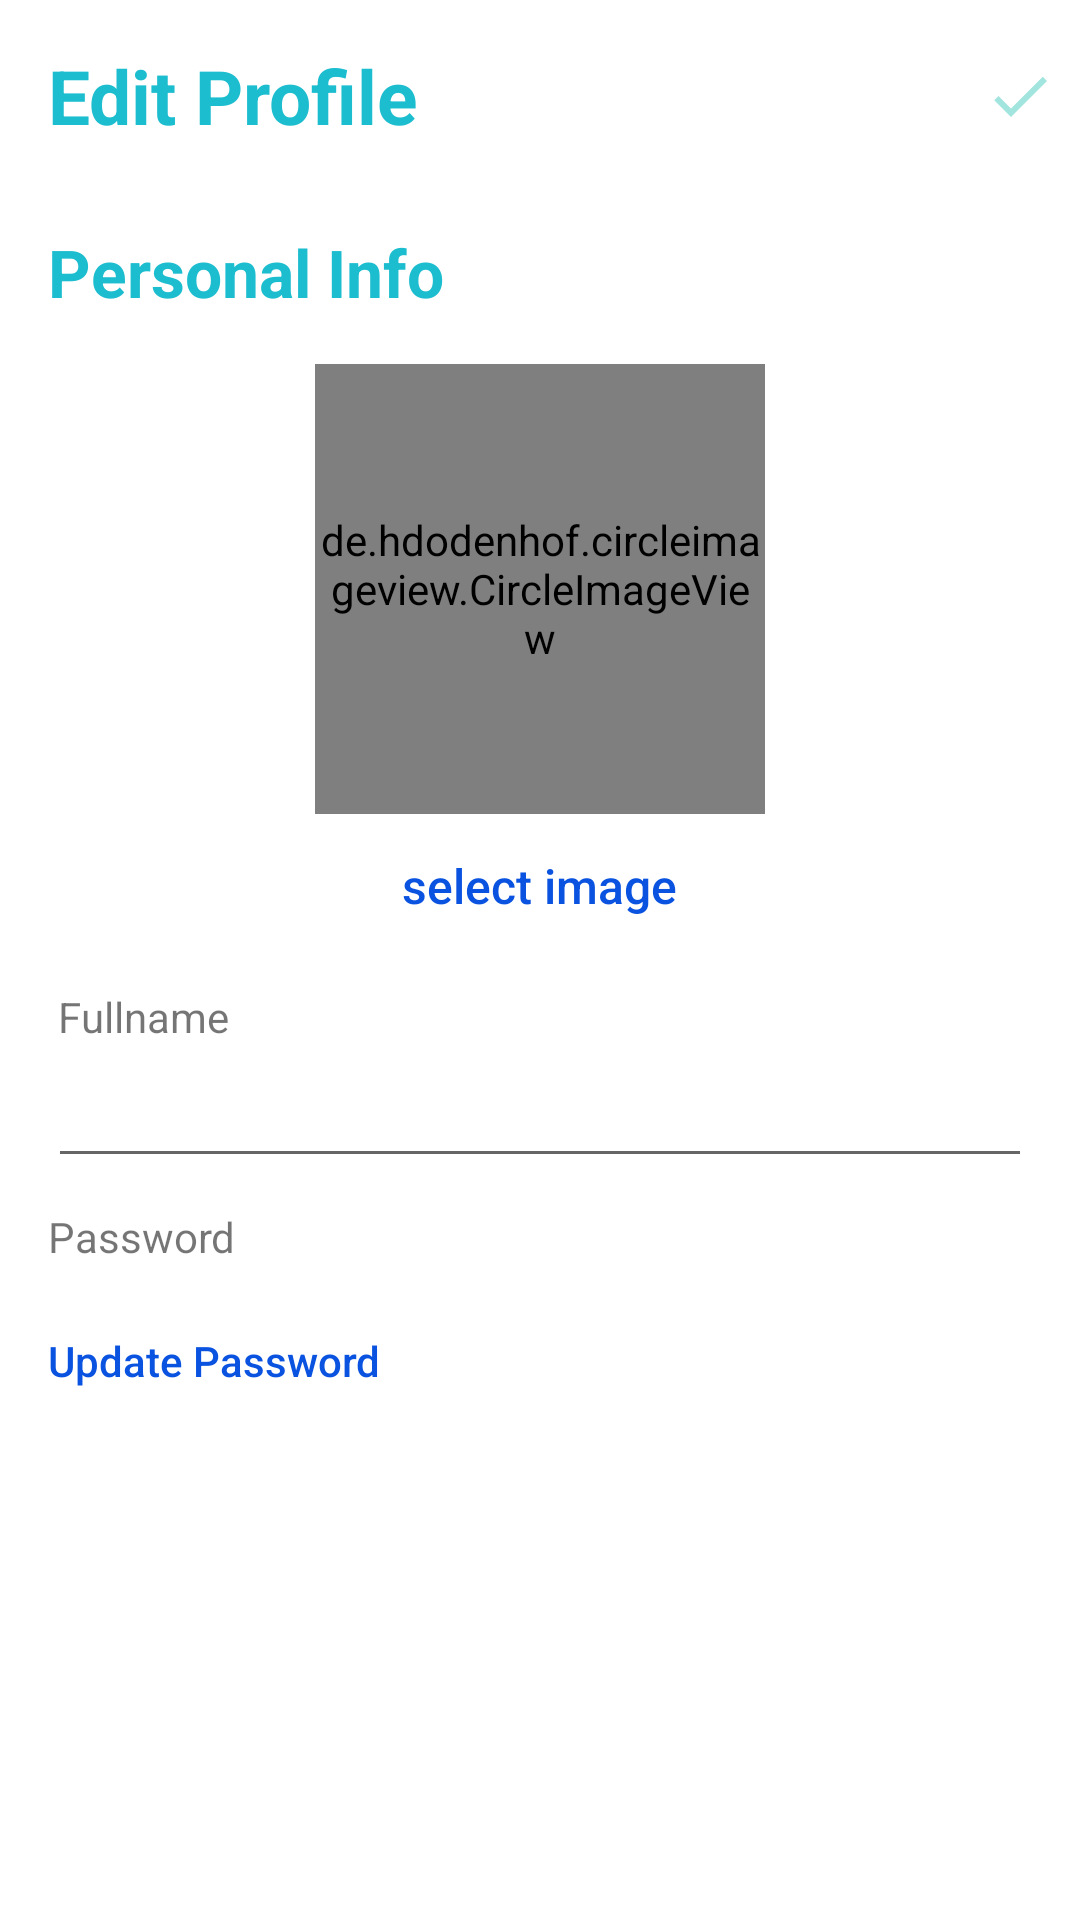

Where icons sit on this 1080w x 1920h app screen, as (x1, y1, x2, y2):
check: (994, 77, 1047, 117)
